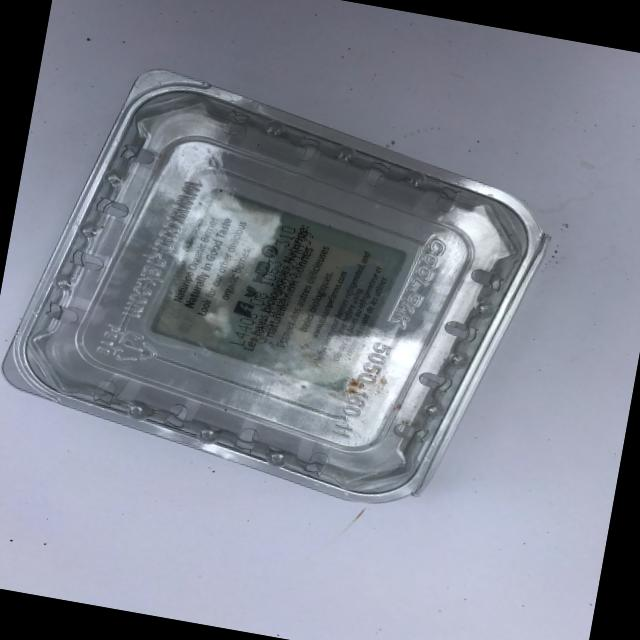Plastic: (0, 67, 551, 506)
